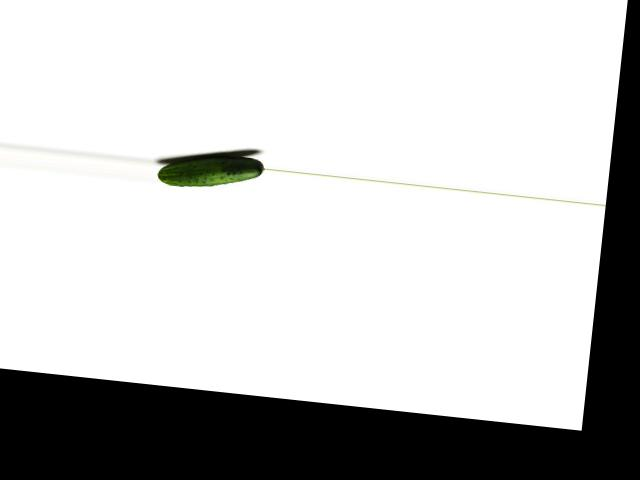cucumber: (157, 147, 266, 195)
